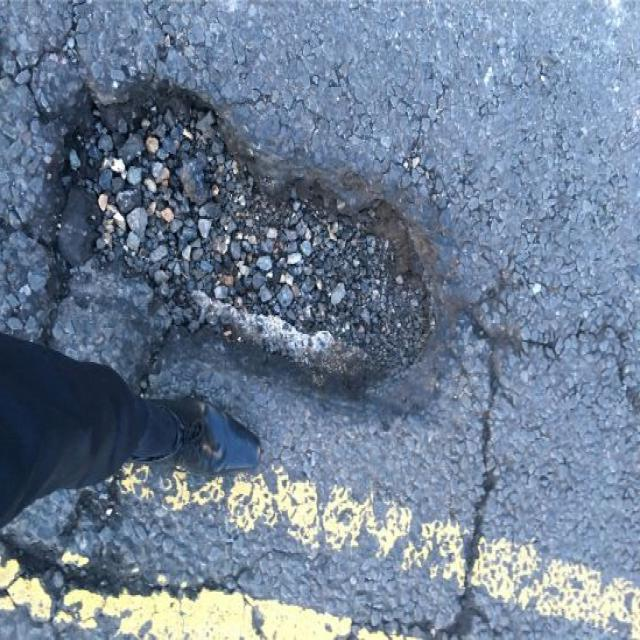Pothole: (41, 70, 457, 390)
